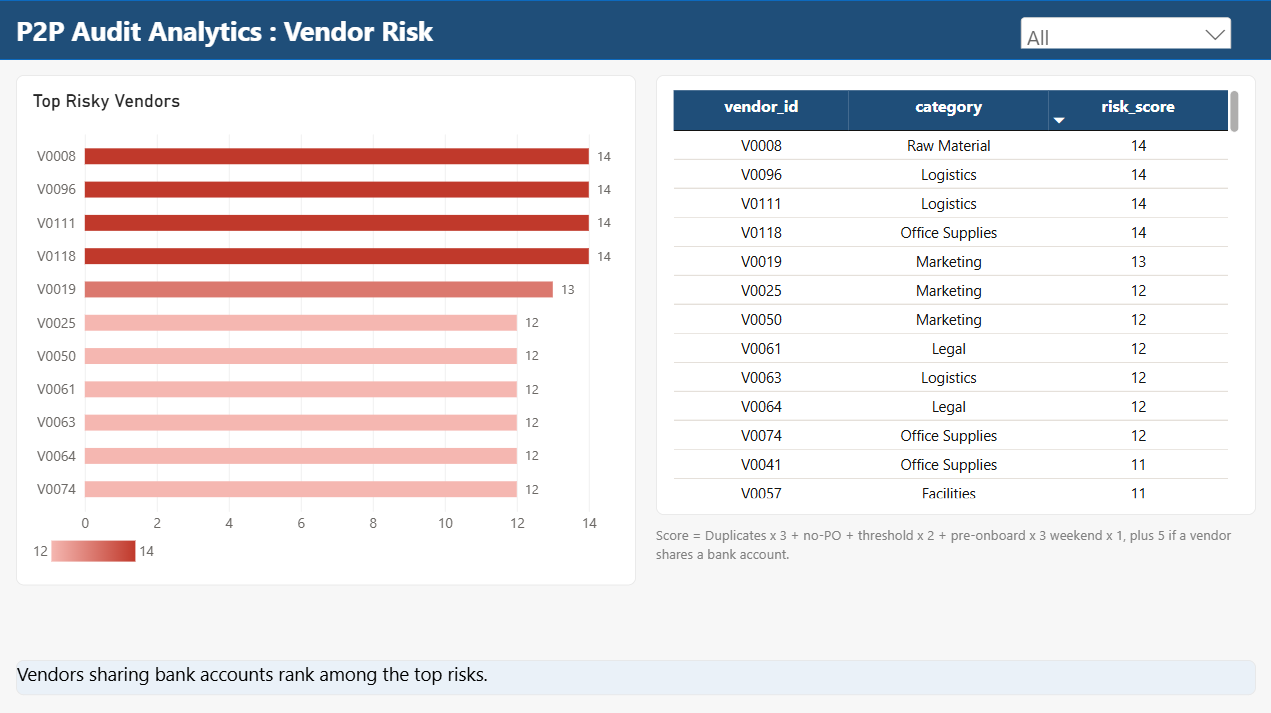

Layout of this report page (visuals, bound fields, positions):
{"tool":"powerbi","page":{"name":"Vendor Risk","canvas":[1280,720],"ordinal":3},"visuals":[{"type":"clusteredBarChart","title":"Top Risky Vendors","fields":{"Category":["vendor_risk.vendor_id"],"Y":["Sum(vendor_risk.risk_score)"]},"box":[20,75,620,510],"z":0},{"type":"tableEx","fields":{"Values":["vendor_risk.vendor_id","vendor_risk.category","vendor_risk.risk_score"]},"box":[660,75,600,440],"z":1000},{"type":"textbox","box":[20,660,1240,35],"z":3000},{"type":"shape","box":[0,0,1280,60],"z":3001},{"type":"slicer","fields":{"Values":["vendors.category"]},"box":[1020,12.5,220,36],"z":3002},{"type":"textbox","box":[20,12,967,57],"z":3003},{"type":"textbox","box":[660,525,600,60],"z":3004}]}

Visuals, with their boxes in screenshot pixels (x1, y1, x2, y2), scaled from the page's 1280x720 canvas onto the 1271x713 screenshot:
"Top Risky Vendors" clusteredBarChart: pyautogui.locateOnScreen(20, 74, 636, 579)
tableEx - vendor_risk.vendor_id x vendor_risk.category: pyautogui.locateOnScreen(655, 74, 1251, 510)
textbox: pyautogui.locateOnScreen(20, 654, 1251, 688)
shape: pyautogui.locateOnScreen(0, 0, 1270, 59)
slicer - vendors.category: pyautogui.locateOnScreen(1013, 12, 1231, 48)
textbox: pyautogui.locateOnScreen(20, 12, 980, 68)
textbox: pyautogui.locateOnScreen(655, 520, 1251, 579)
